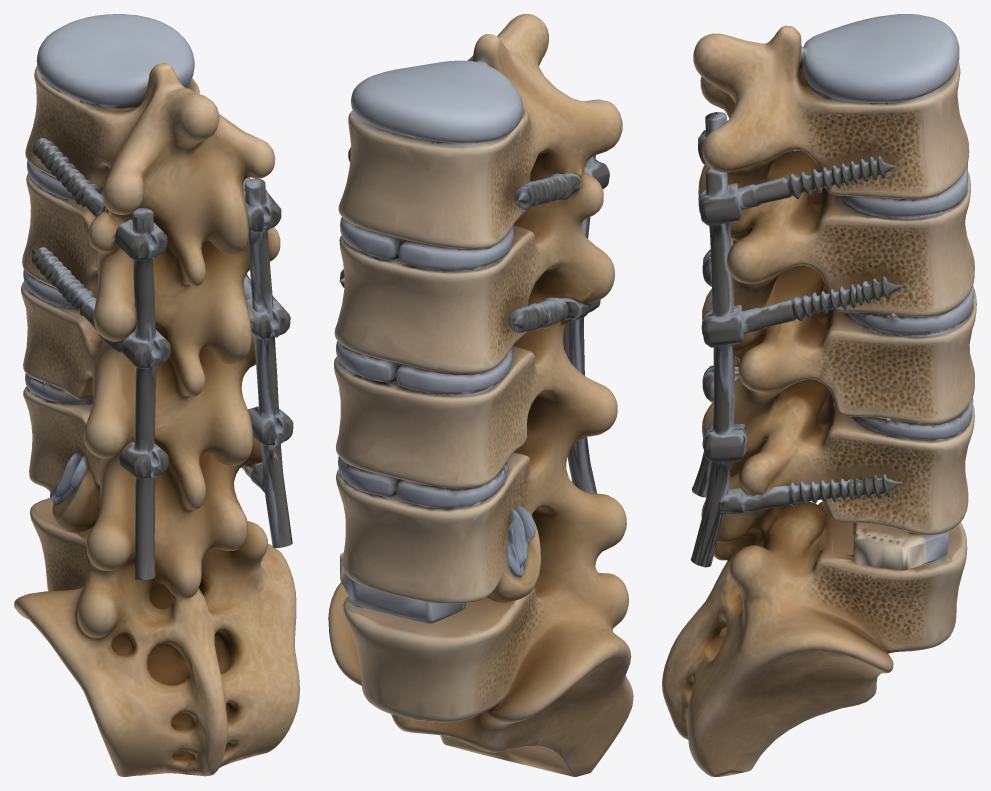
File: spine.glb
The picture shows the model from 3 angles, left to right: view 1: azimuth 30°, elevation 25°; view 2: azimuth 150°, elevation 25°; view 3: azimuth 270°, elevation 25°; orthographic projection. The views are drawn at different scales.
Visible parts, largest first — view 1: world; view 2: world; view 3: world.
Boxes of the visible parts, x1,y1,x2,y2 form: world: (14, 14, 299, 776); world: (328, 14, 633, 776); world: (662, 14, 976, 776).
Size of the model in its own units: 0.3871 by 0.9999 by 0.3998.
Materials: 1 (1 with a texture image).
